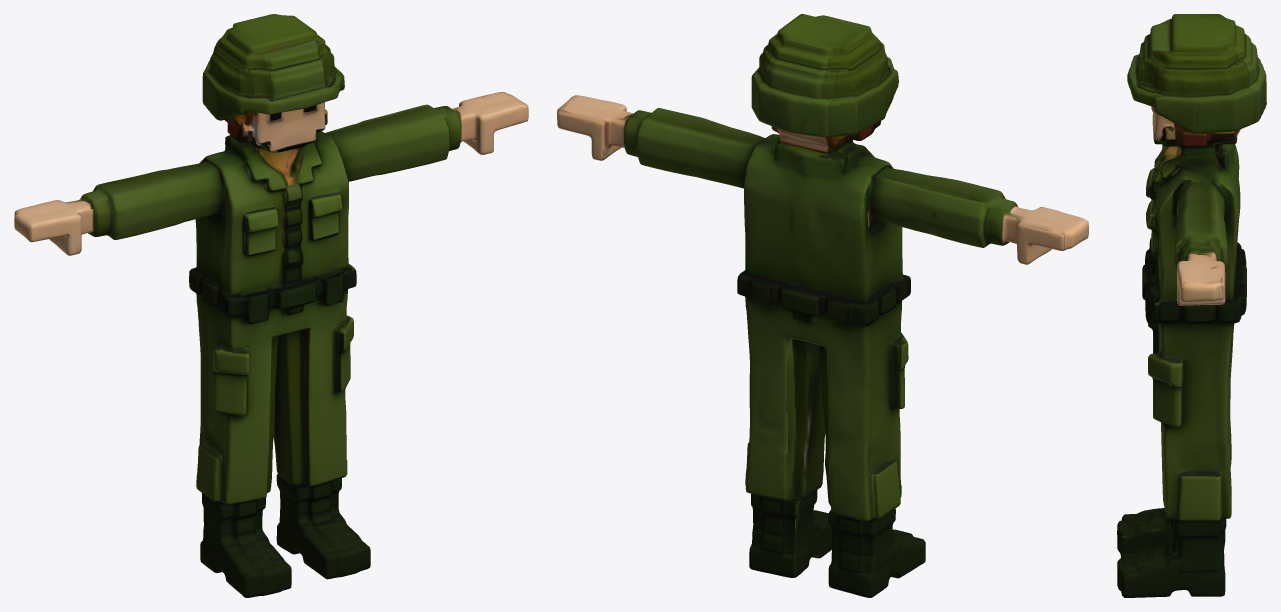
Rendered from military.glb.
3 views of the same model, side by side, from view 1: azimuth 30°, elevation 25°; view 2: azimuth 150°, elevation 25°; view 3: azimuth 270°, elevation 25° (orthographic). The views are drawn at different scales.
Visible parts, largest first — view 1: texture_pbr_v128; view 2: texture_pbr_v128; view 3: texture_pbr_v128.
Part boxes in pixels (left/top/right/bottom): texture_pbr_v128: left=14, top=14, right=528, bottom=597; texture_pbr_v128: left=557, top=14, right=1088, bottom=597; texture_pbr_v128: left=1117, top=14, right=1266, bottom=597.
Size of the model in its own units: 1.07 by 1.08 by 0.2719.
Materials: 1 (1 with a texture image).
